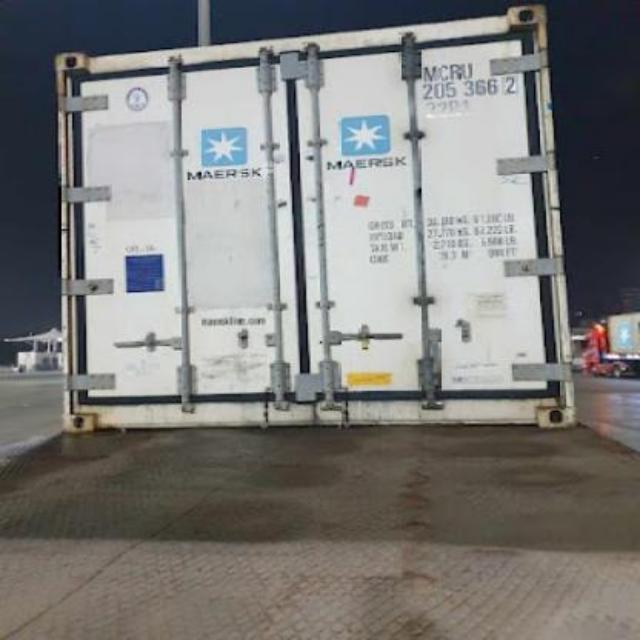0: (432, 81, 446, 97)
2: (502, 75, 520, 93), (422, 81, 434, 101)
3: (462, 78, 472, 98)
5: (444, 79, 458, 99)
6: (472, 74, 486, 96), (488, 74, 500, 98)
C: (438, 60, 448, 82)
M: (422, 64, 438, 82)
R: (448, 58, 462, 82)
U: (461, 55, 474, 81)
